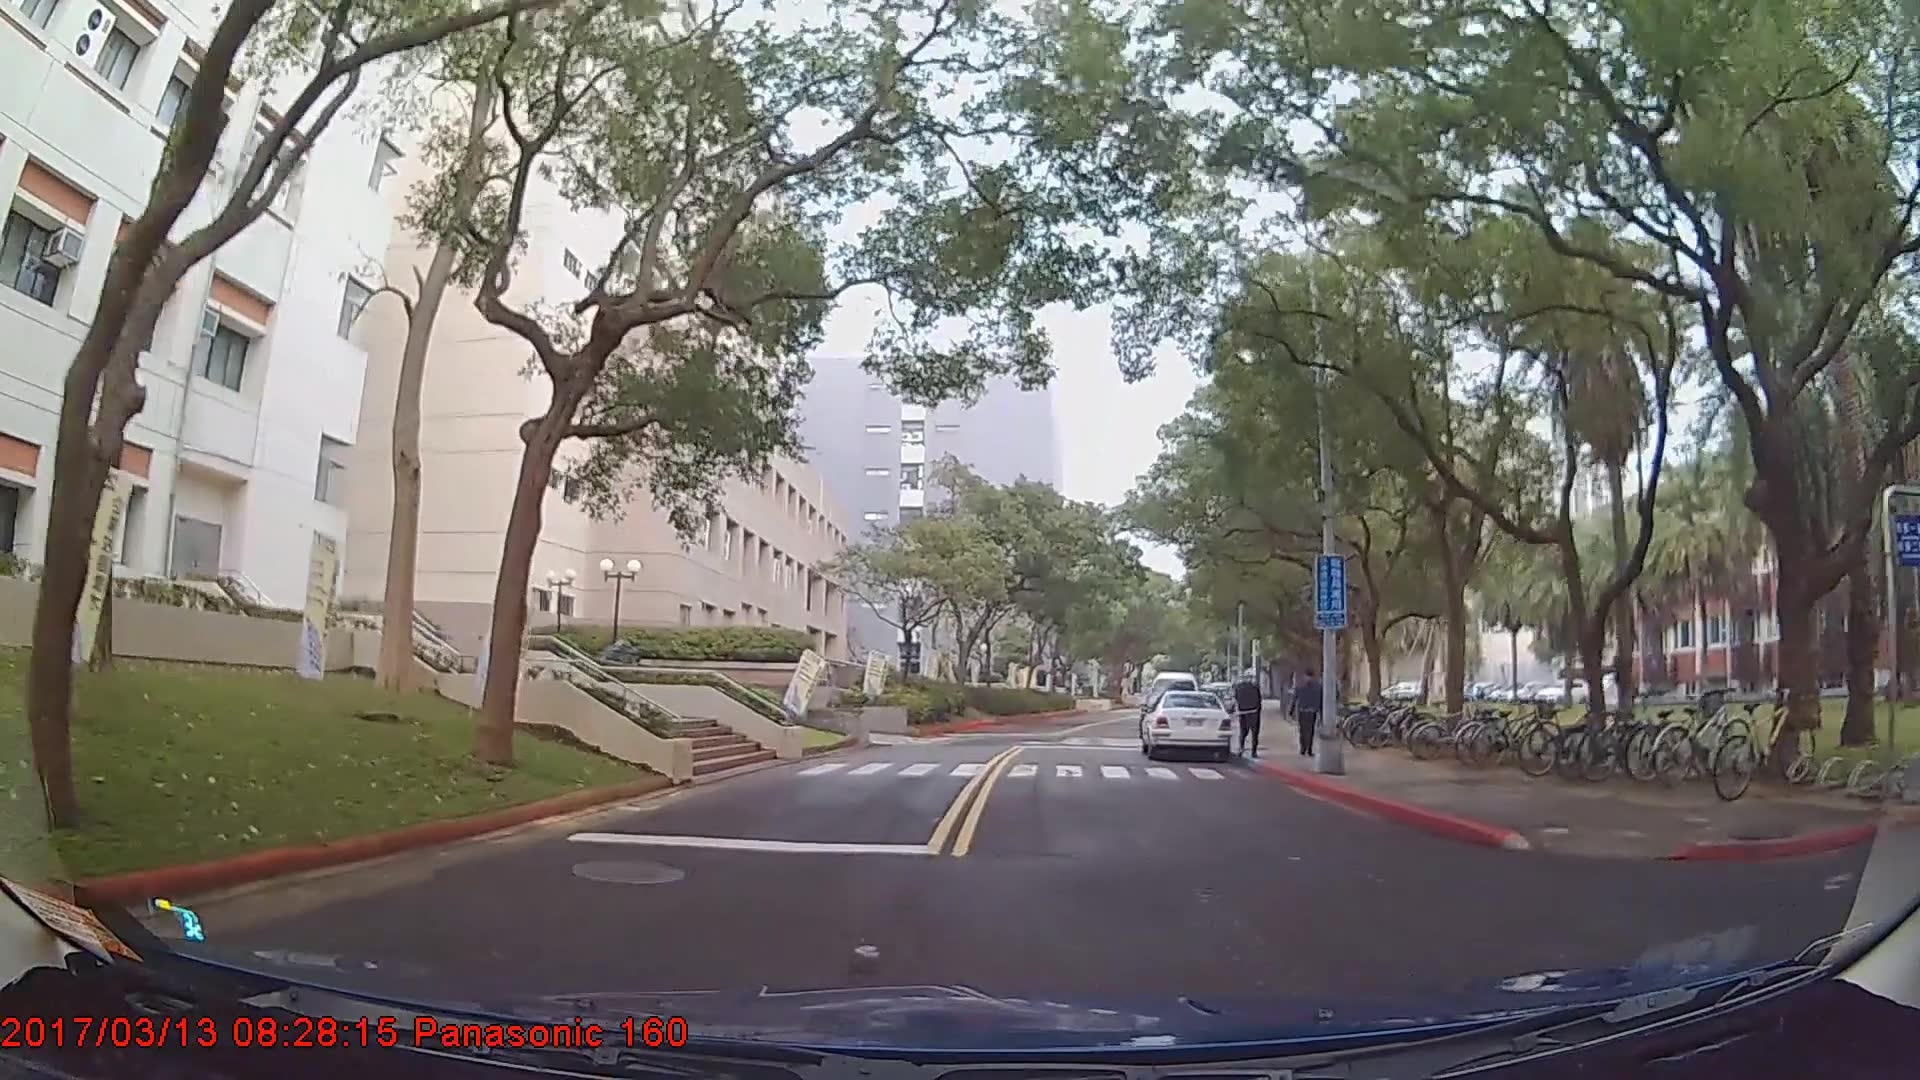pedestrian: (1291, 666, 1330, 757), (1235, 665, 1265, 758)
vehicle: (1137, 687, 1233, 765)
